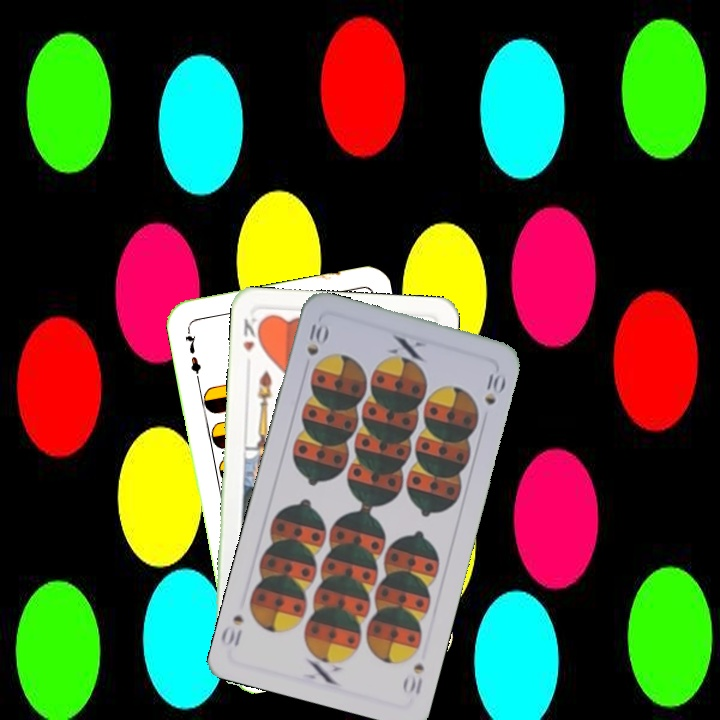E7: (180, 324, 204, 383)
HK: (239, 314, 264, 355)
S10: (303, 317, 331, 358), (399, 659, 427, 697)
